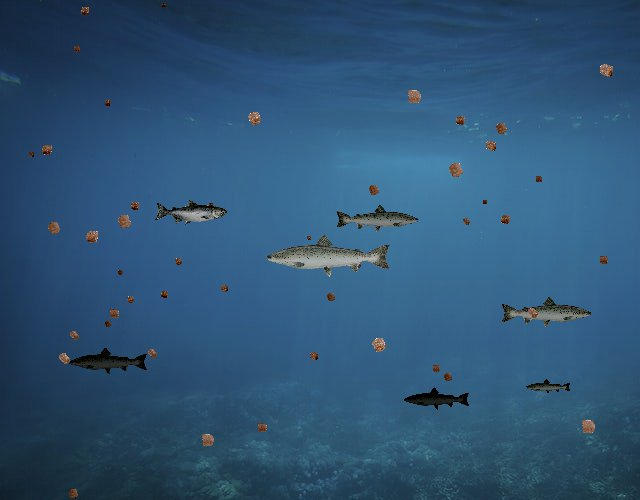Fish: (264, 232, 393, 278), (499, 295, 593, 329), (334, 203, 420, 234), (68, 347, 149, 376), (155, 200, 228, 226), (403, 386, 471, 410), (526, 379, 573, 396)
Pellet: (240, 105, 268, 133), (52, 346, 77, 371), (25, 148, 37, 160)
